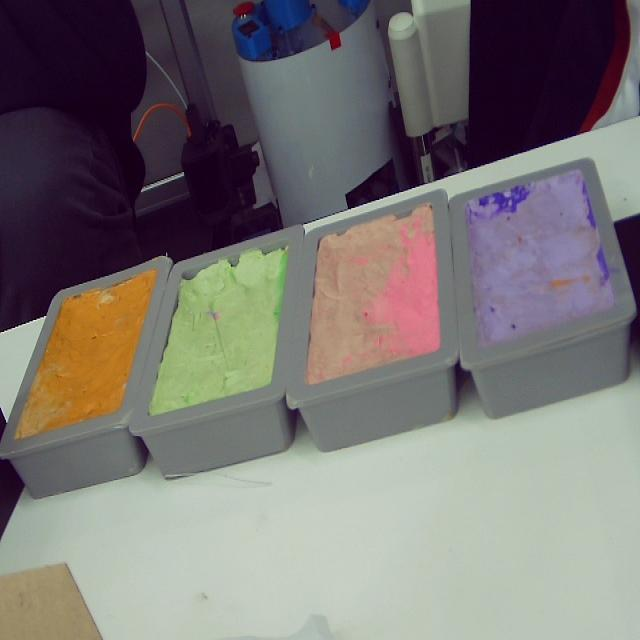block: (449, 156, 637, 420), (286, 186, 461, 450), (126, 229, 308, 477), (0, 256, 170, 498)
